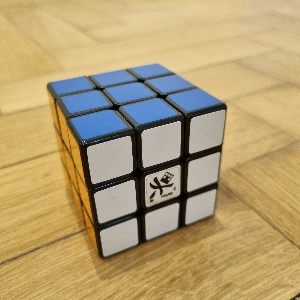cube: (46, 63, 228, 263)
